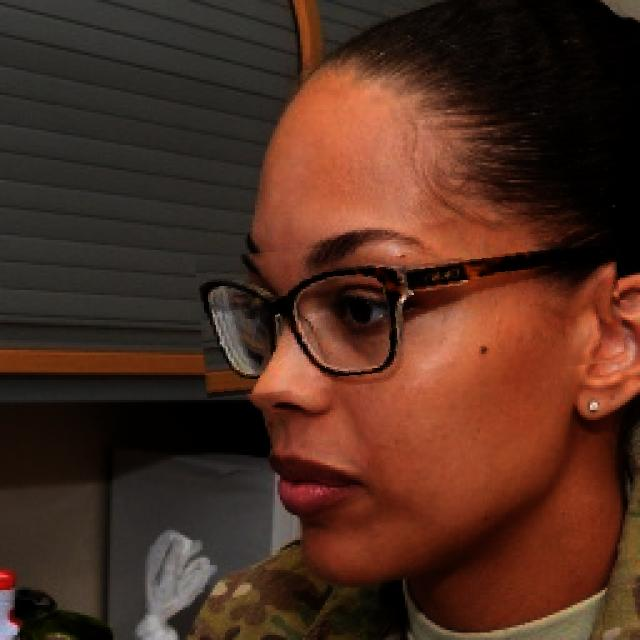glasses: (197, 231, 623, 389)
